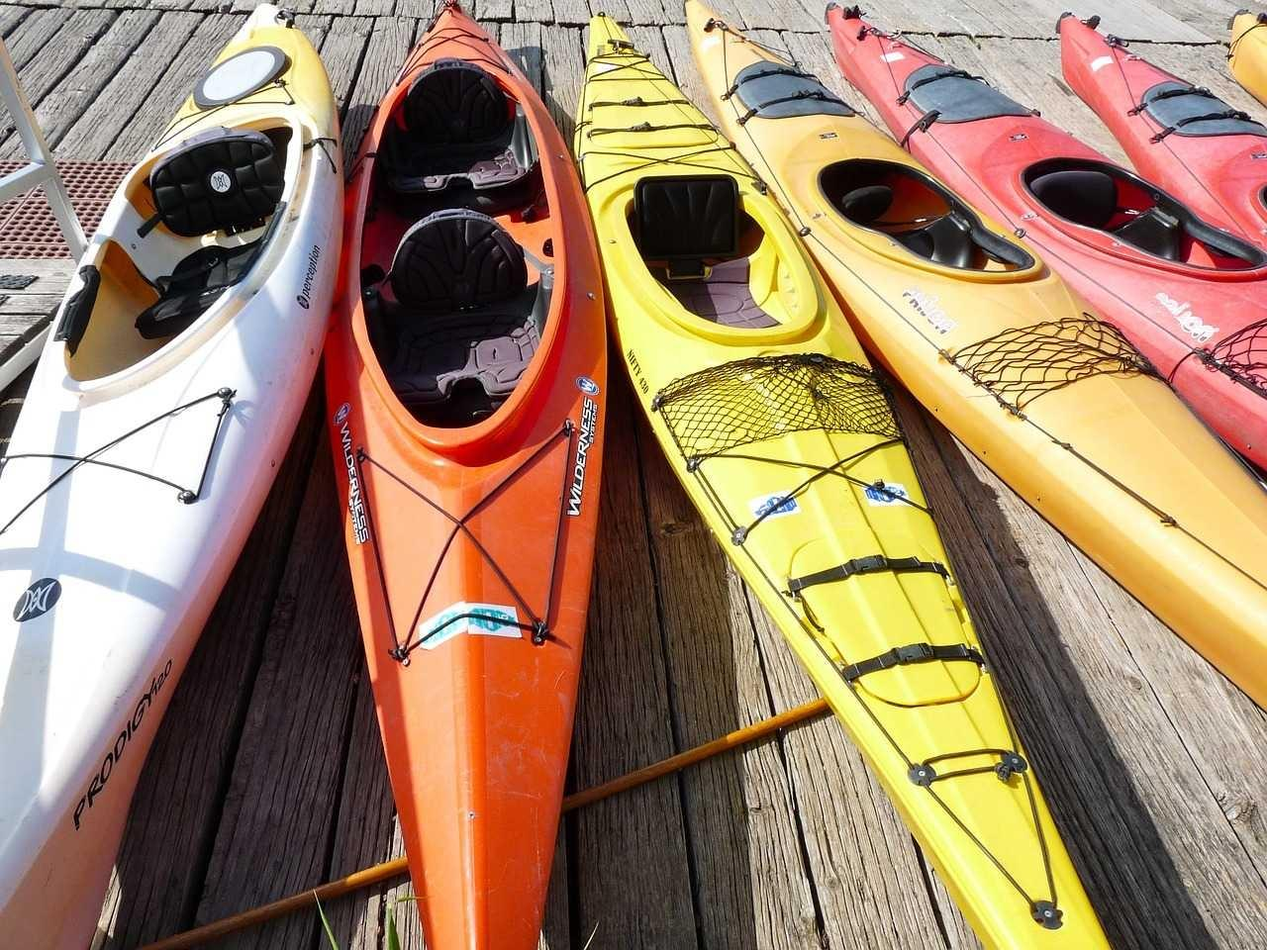kayak: (569, 12, 1110, 946), (1, 4, 346, 939), (323, 1, 611, 945), (824, 3, 1265, 478), (1056, 11, 1267, 259), (1225, 8, 1267, 109)
